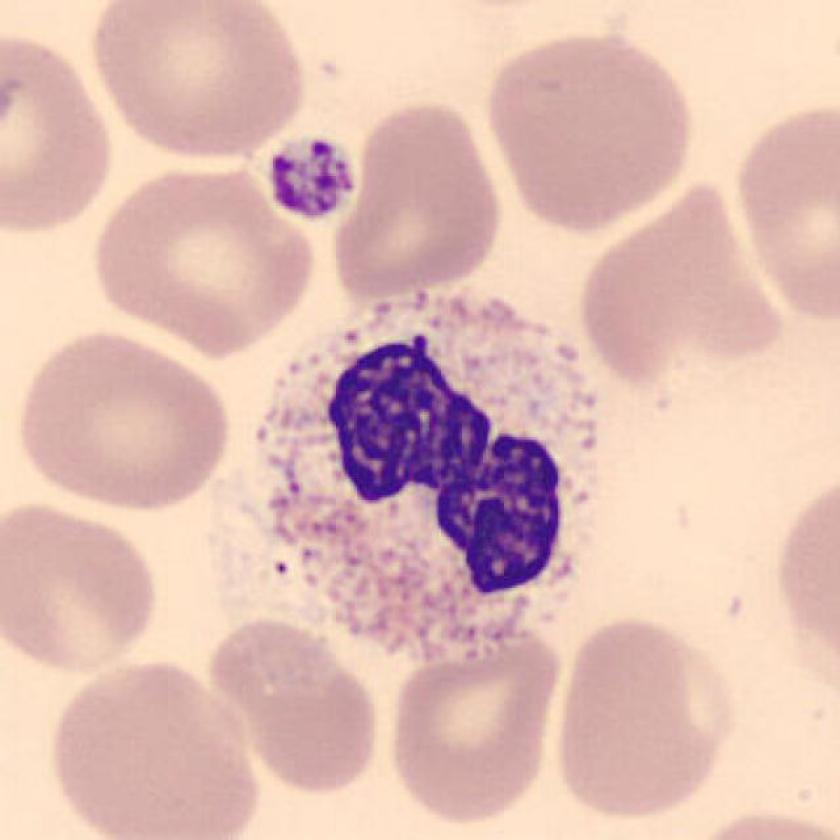neutrophil: (256, 290, 596, 657)
